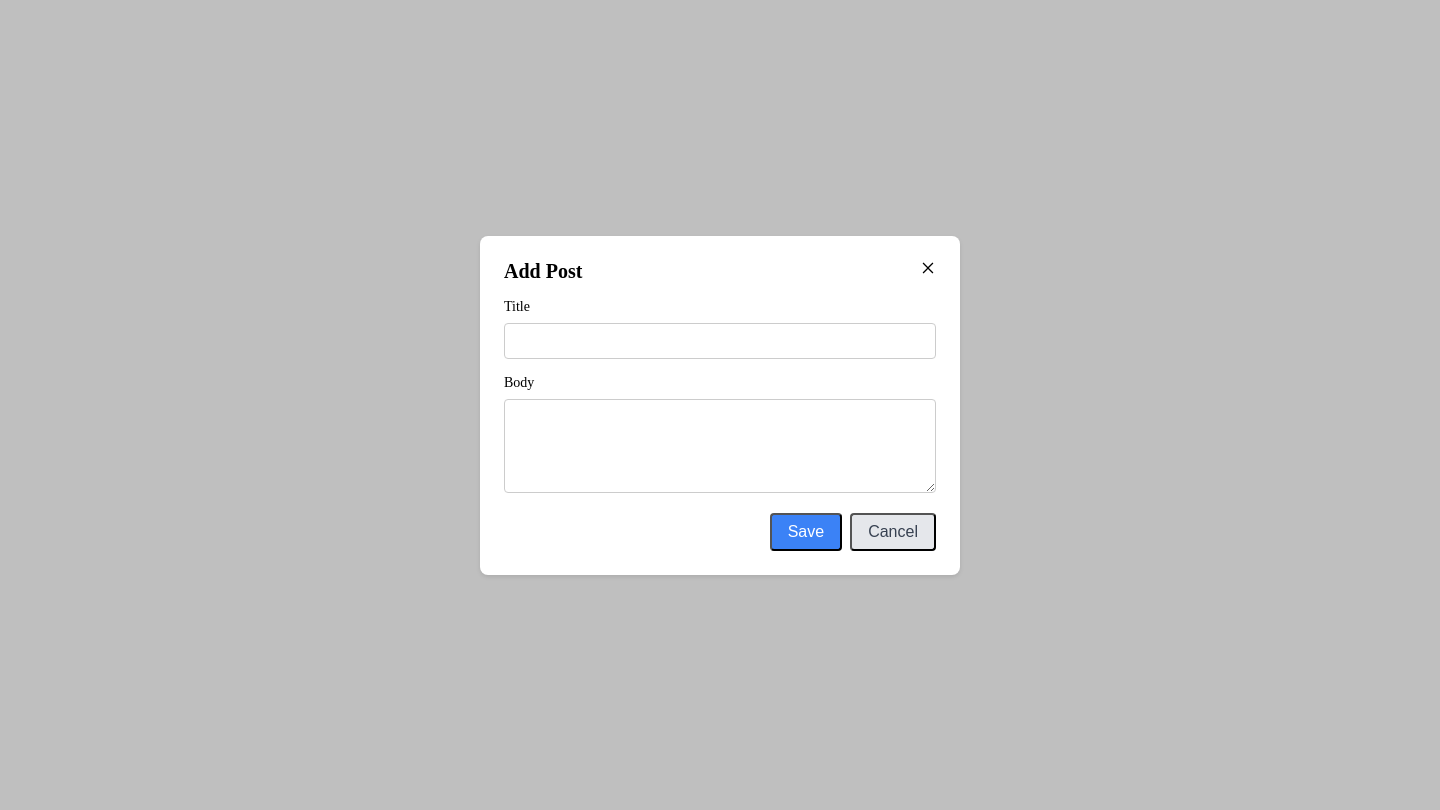
Test case: AddEditPostModal › displays validation errors when form is submitted empty
The image size is (1440, 810).
Click the button "Save".
click(806, 532)  # box 770,512 -> 842,550
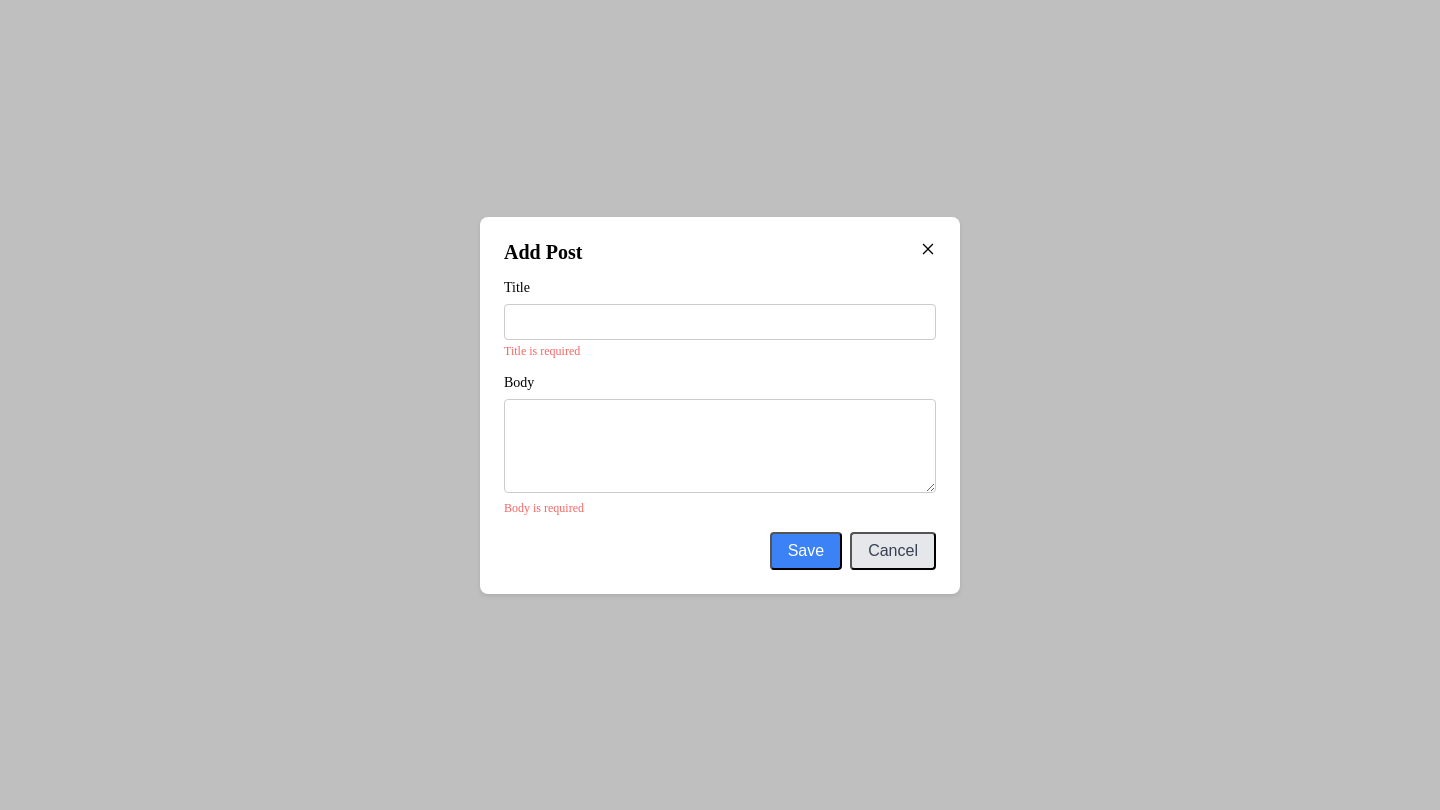
Check: the text "Title is required" is shown, box 504,344 -> 580,358
Check: the text "Body is required" is shown, box 504,500 -> 584,514
